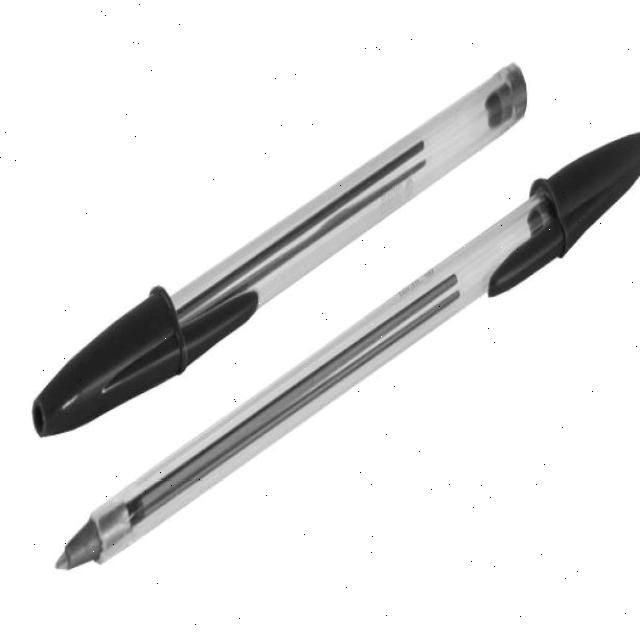pencil: (47, 128, 640, 590), (16, 52, 552, 446)
